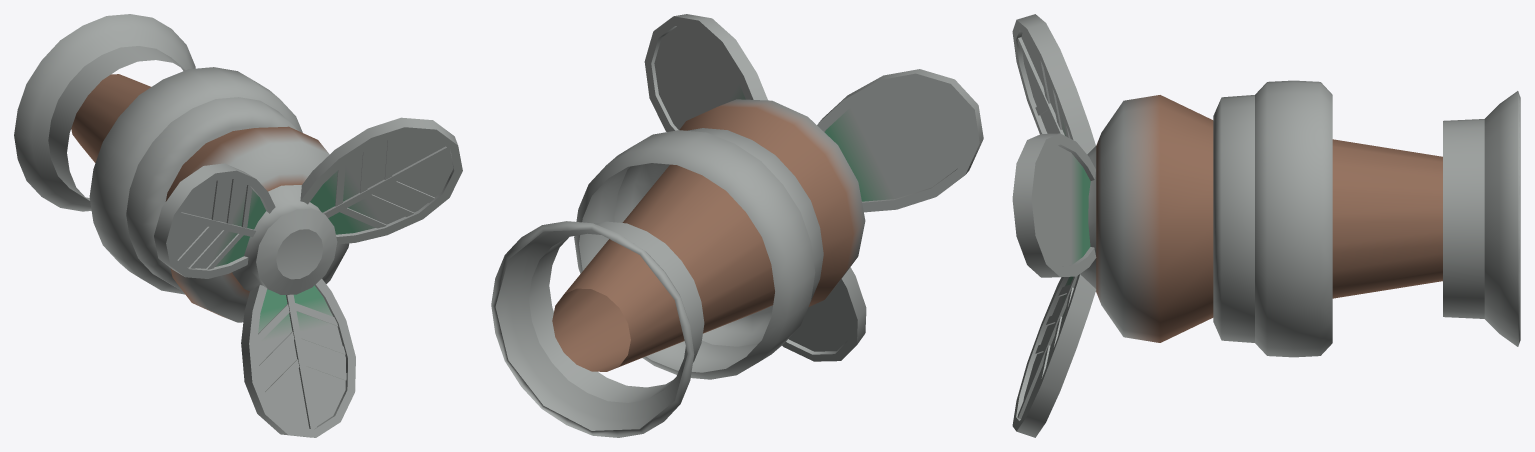
3 renders of one model, left to right at view 1: azimuth 30°, elevation 25°; view 2: azimuth 150°, elevation 25°; view 3: azimuth 270°, elevation 25°, orthographic. The views are drawn at different scales.
Parts seen in each view (by area): view 1: G:\FFXIV-MapTools\exports\u5f1\bg\ex4\04_uvs_u5\fld\u5f1\bgp (×3); view 2: G:\FFXIV-MapTools\exports\u5f1\bg\ex4\04_uvs_u5\fld\u5f1\bgp (×3); view 3: G:\FFXIV-MapTools\exports\u5f1\bg\ex4\04_uvs_u5\fld\u5f1\bgp (×3).
Boxes of the visible parts, x1,y1,x2,y2 form: G:\FFXIV-MapTools\exports\u5f1\bg\ex4\04_uvs_u5\fld\u5f1\bgp (×3): (14,14,462,437); G:\FFXIV-MapTools\exports\u5f1\bg\ex4\04_uvs_u5\fld\u5f1\bgp (×3): (491,14,983,437); G:\FFXIV-MapTools\exports\u5f1\bg\ex4\04_uvs_u5\fld\u5f1\bgp (×3): (1012,14,1520,437).
Size of the model in its own units: 3.76 by 3.42 by 4.48.
